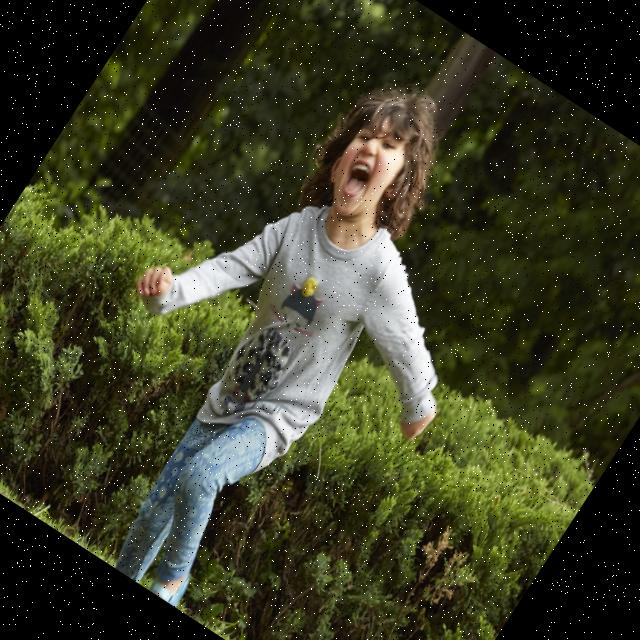Person: (0, 16, 580, 640)
